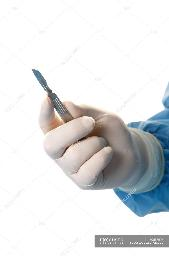scalpel: (32, 68, 87, 140)
